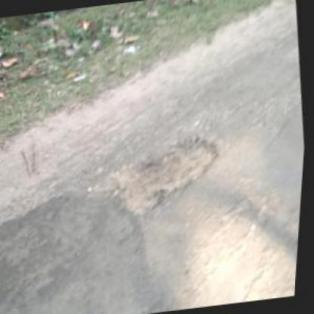Hueco: (110, 133, 230, 218)
